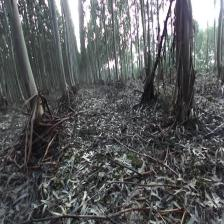trunk: (5, 3, 44, 114), (176, 2, 193, 109), (52, 17, 69, 95), (112, 18, 120, 82), (217, 3, 224, 72)
